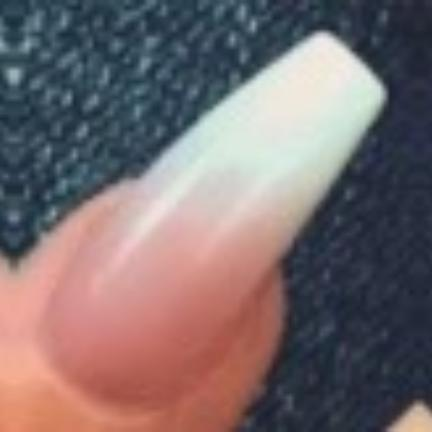Nail: (33, 28, 387, 421)
